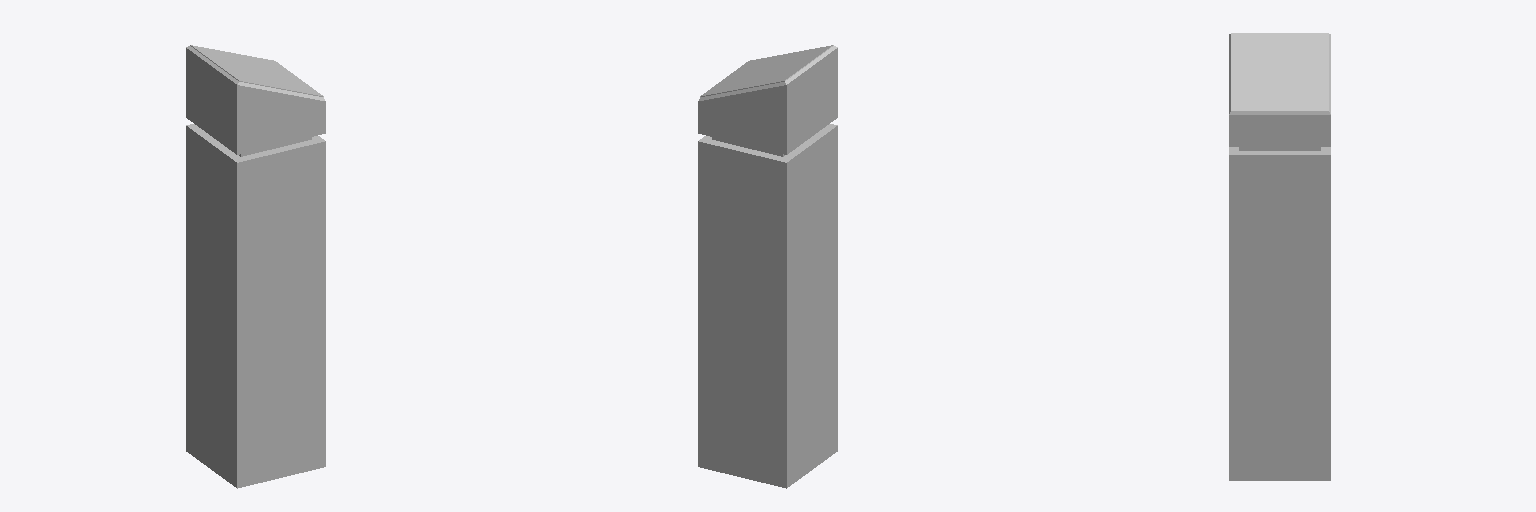
File: building4.obj
3 renders of one model, left to right at view 1: azimuth 30°, elevation 25°; view 2: azimuth 150°, elevation 25°; view 3: azimuth 270°, elevation 25°, orthographic.
Parts seen in each view (by area): view 1: polySurface11 polySurface10 polySurface8 polySurface6 polySurfac; view 2: polySurface11 polySurface10 polySurface8 polySurface6 polySurfac; view 3: polySurface11 polySurface10 polySurface8 polySurface6 polySurfac.
Boxes of the visible parts, x1=… form: polySurface11 polySurface10 polySurface8 polySurface6 polySurfac: x1=186, y1=45, x2=325, y2=488; polySurface11 polySurface10 polySurface8 polySurface6 polySurfac: x1=698, y1=45, x2=837, y2=488; polySurface11 polySurface10 polySurface8 polySurface6 polySurfac: x1=1229, y1=33, x2=1330, y2=480.
Bounding box in the file's own units: 29.86 × 131 × 29.86.